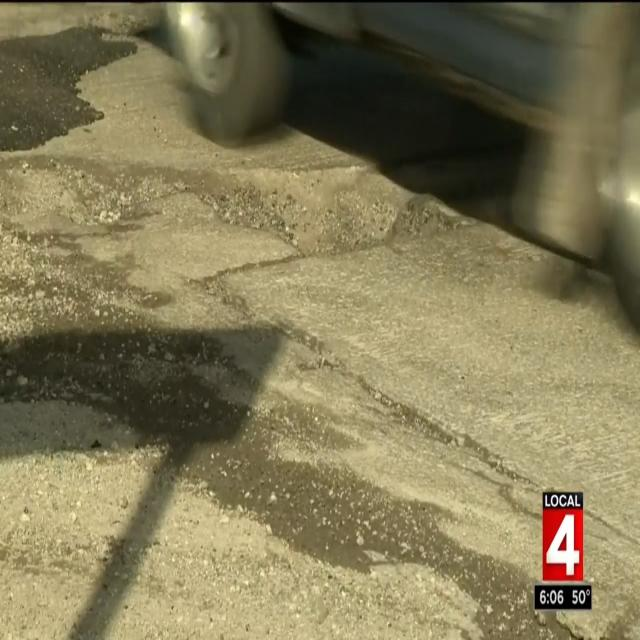pothole: (0, 152, 474, 256), (0, 26, 136, 149)
